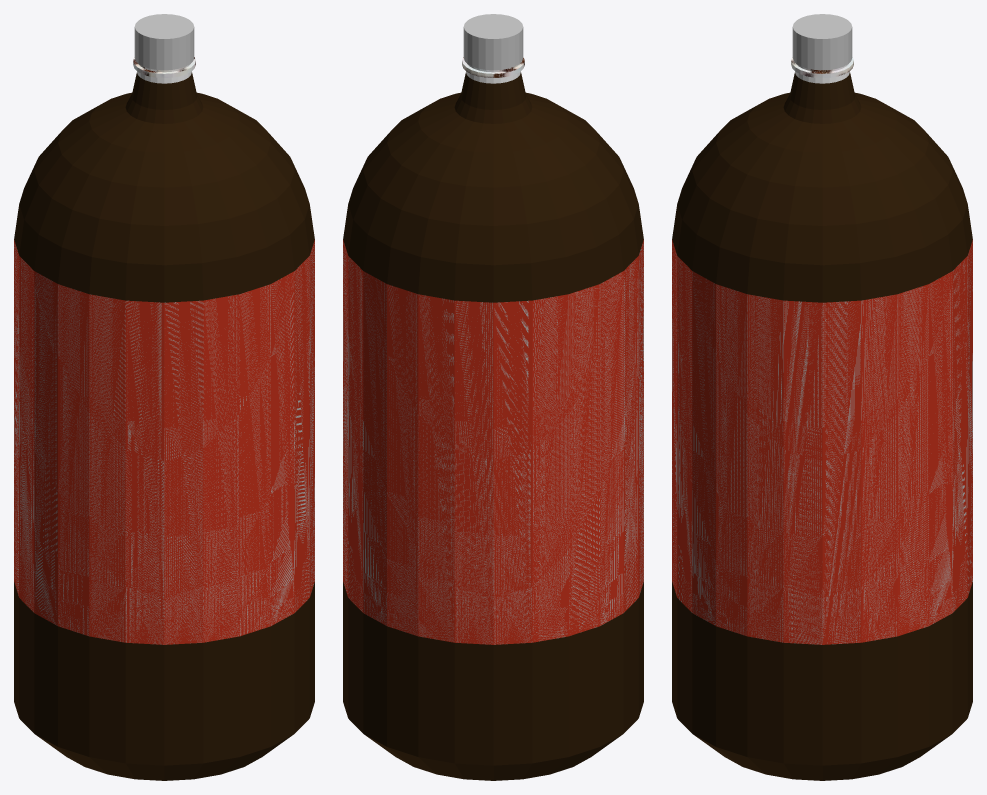
3 renders of one model, left to right at view 1: azimuth 30°, elevation 25°; view 2: azimuth 150°, elevation 25°; view 3: azimuth 270°, elevation 25°, orthographic.
Visible parts, largest first — view 1: mesh1_mesh1-geometry; view 2: mesh1_mesh1-geometry; view 3: mesh1_mesh1-geometry.
Part boxes in pixels (left/top/right/bottom): mesh1_mesh1-geometry: left=14, top=14, right=314, bottom=780; mesh1_mesh1-geometry: left=343, top=14, right=643, bottom=780; mesh1_mesh1-geometry: left=672, top=14, right=972, bottom=780.
Size of the model in its own units: 0.3386 by 0.8779 by 0.3386.
